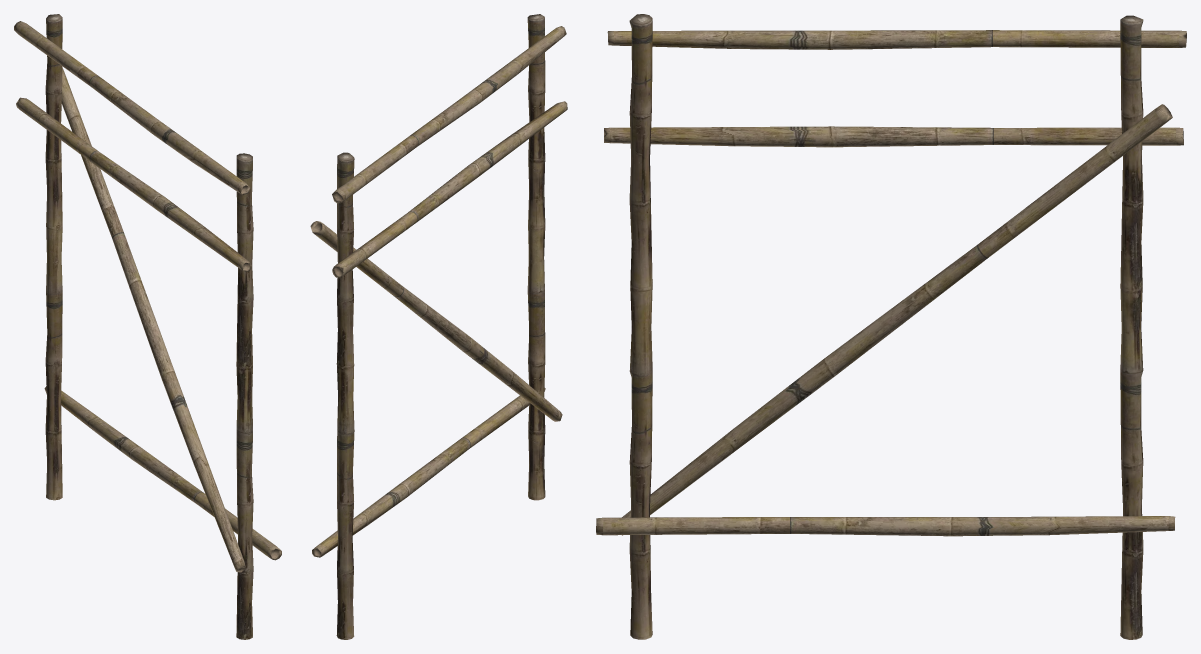
File: jungle_scaffolding_panel_single_400x300.glb
3 views of the same model, side by side, from view 1: azimuth 30°, elevation 25°; view 2: azimuth 150°, elevation 25°; view 3: azimuth 270°, elevation 25° (orthographic). The views are drawn at different scales.
Parts seen in each view (by area): view 1: jungle_scaffolding_panel_single_400x300; view 2: jungle_scaffolding_panel_single_400x300; view 3: jungle_scaffolding_panel_single_400x300.
Part boxes in pixels (x1,y1,x2,y2): jungle_scaffolding_panel_single_400x300: (14,14,281,639); jungle_scaffolding_panel_single_400x300: (310,14,567,639); jungle_scaffolding_panel_single_400x300: (596,14,1186,639).
Size of the model in its own units: 0.3674 by 4.15 by 3.6.
1 material, 1 textured.
